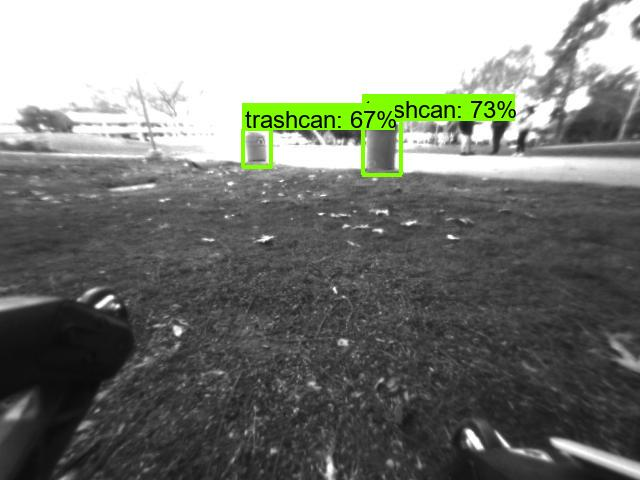trashcan: (367, 123, 397, 170), (243, 125, 271, 162)
